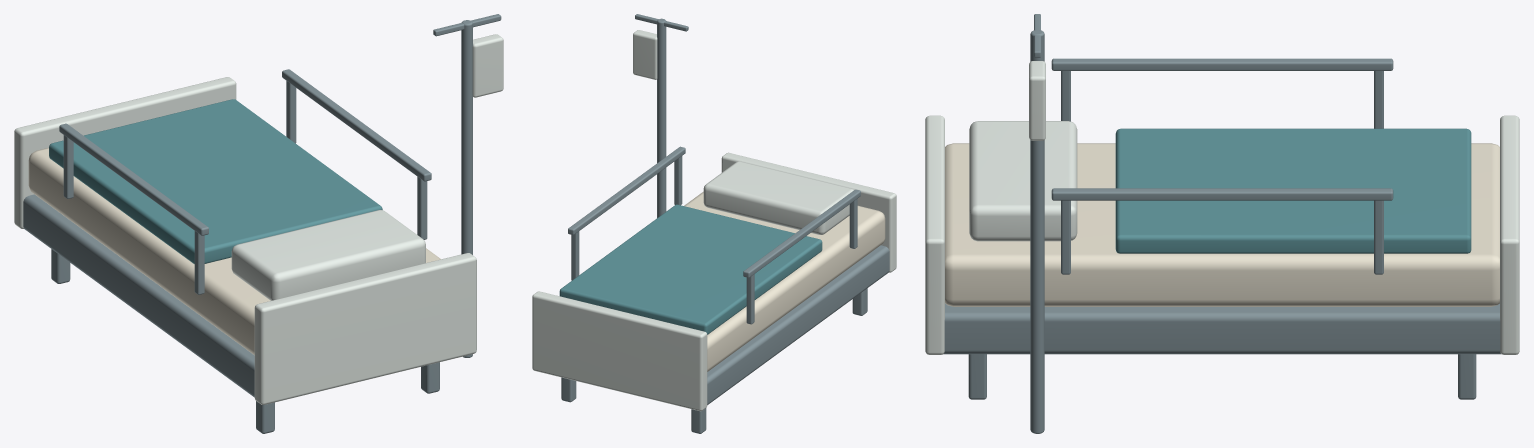
Rendered from alpha_medicalbed.glb.
The picture shows the model from 3 angles, left to right: view 1: azimuth 30°, elevation 25°; view 2: azimuth 150°, elevation 25°; view 3: azimuth 270°, elevation 25°; orthographic projection. The views are drawn at different scales.
Parts seen in each view (by area): view 1: Alpha_white, Alpha_teal, Alpha_metal, Alpha_cream; view 2: Alpha_white, Alpha_teal, Alpha_metal, Alpha_cream; view 3: Alpha_metal, Alpha_teal, Alpha_cream, Alpha_white.
Part boxes in pixels (x1,y1,x2,y2): Alpha_white: (14,34,503,404); Alpha_teal: (49,99,382,263); Alpha_metal: (23,14,501,433); Alpha_cream: (28,147,440,355); Alpha_white: (532,30,896,411); Alpha_teal: (559,204,822,334); Alpha_metal: (561,14,889,433); Alpha_cream: (684,191,885,371); Alpha_metal: (943,14,1501,433); Alpha_teal: (1115,128,1471,253); Alpha_cream: (945,143,1499,306); Alpha_white: (925,61,1519,354).
Size of the model in its own units: 1.43 by 1.55 by 2.09.
